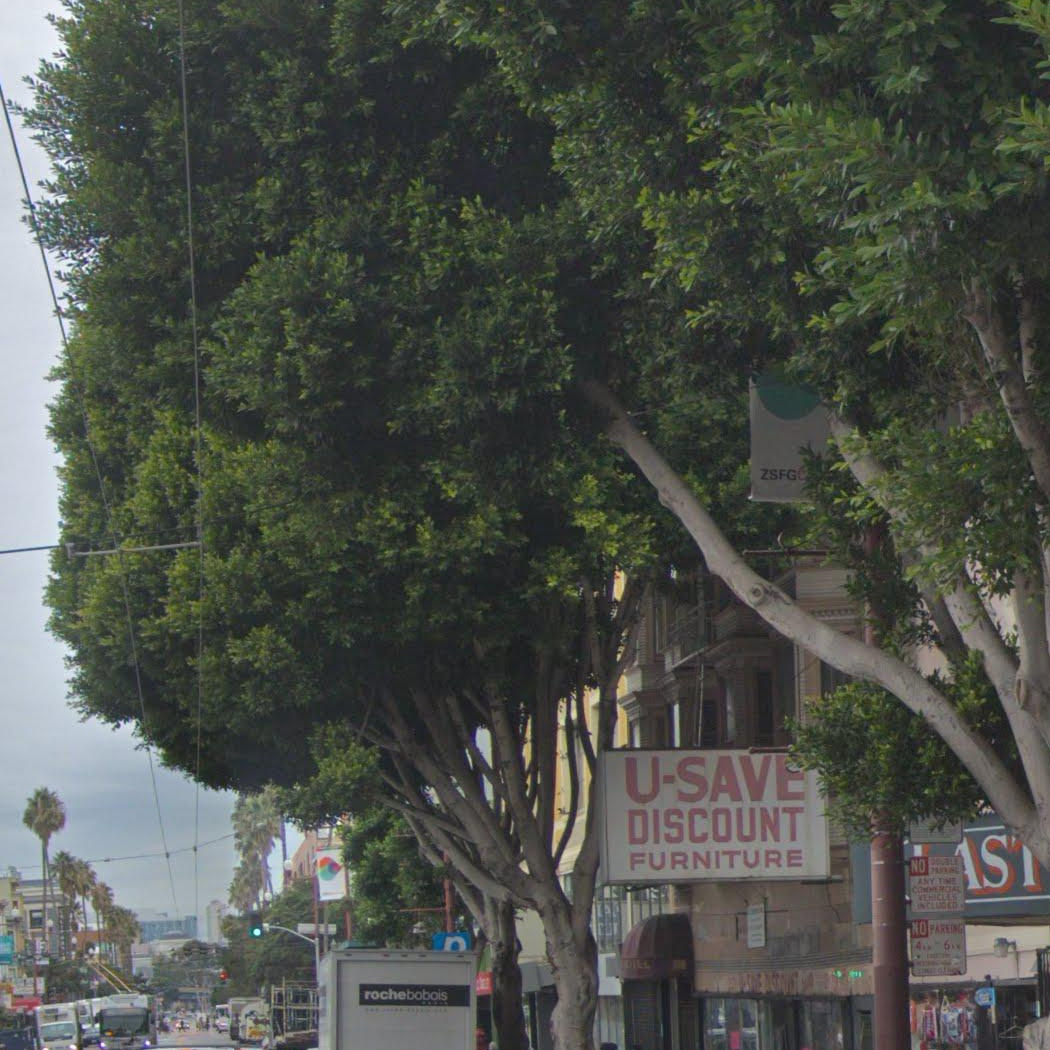No Parking: (910, 919, 967, 977), (909, 856, 966, 913)
